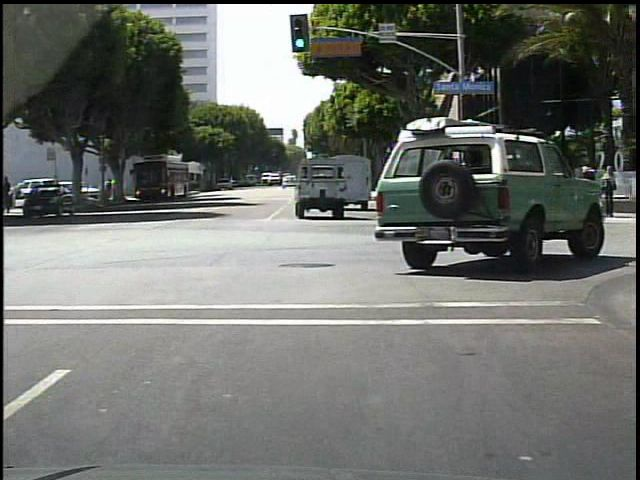person: (539, 159, 562, 226), (600, 167, 618, 218), (517, 158, 533, 214), (476, 168, 493, 217), (509, 167, 524, 217), (506, 164, 521, 213), (467, 165, 479, 216), (588, 165, 594, 223), (115, 176, 124, 204), (104, 177, 113, 200), (576, 172, 577, 221)
